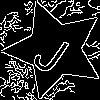J: (29, 24, 78, 77)
